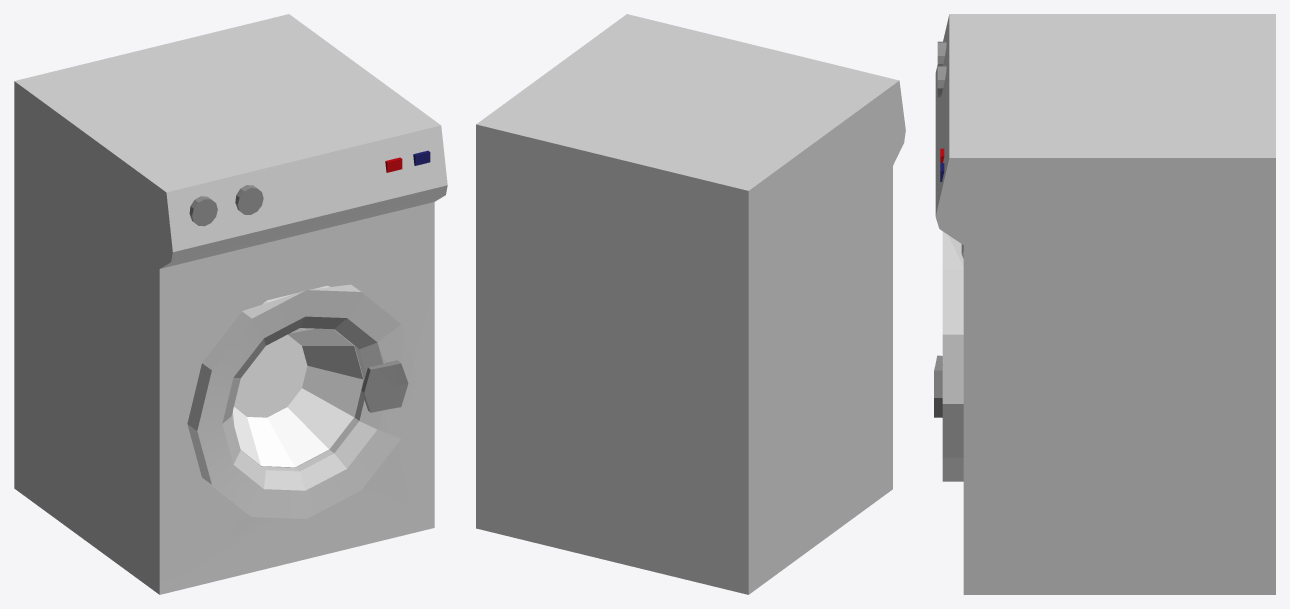
File: Bathroom Washing Machine.glb
3 renders of one model, left to right at view 1: azimuth 30°, elevation 25°; view 2: azimuth 150°, elevation 25°; view 3: azimuth 270°, elevation 25°, orthographic. The views are drawn at different scales.
Parts seen in each view (by area): view 1: Washing Machine; view 2: Washing Machine; view 3: Washing Machine.
Part boxes in pixels (x1,y1,x2,y2): Washing Machine: (14, 14, 447, 594); Washing Machine: (476, 14, 905, 594); Washing Machine: (934, 14, 1275, 594).
Bounding box in the file's own units: 0.697 × 0.9874 × 0.6997.
Materials: 2 (1 with a texture image).
